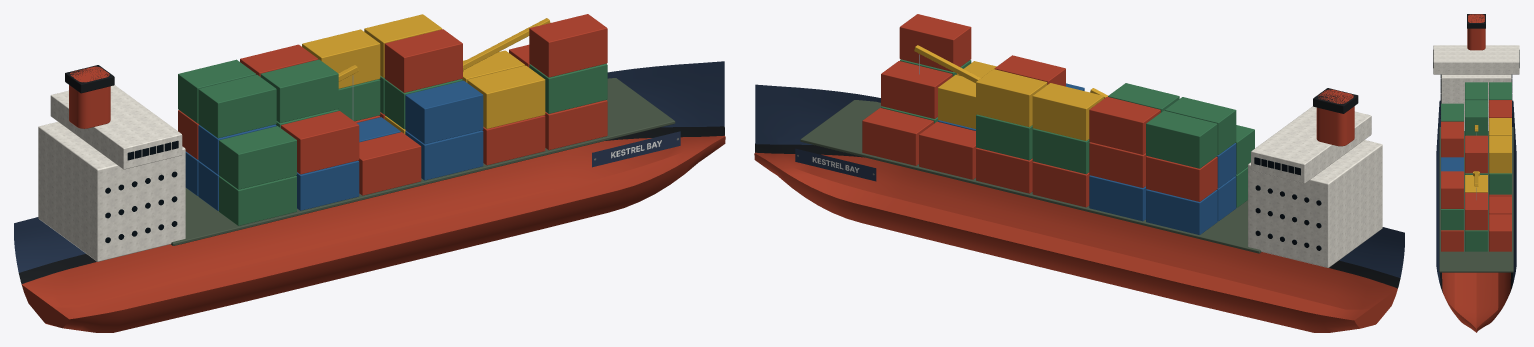
File: CargoFreighter.glb
The picture shows the model from 3 angles, left to right: view 1: azimuth 30°, elevation 25°; view 2: azimuth 150°, elevation 25°; view 3: azimuth 270°, elevation 25°; orthographic projection. The views are drawn at different scales.
Visible parts, largest first — view 1: CargoFreighter_Body, CargoFreighter; view 2: CargoFreighter_Body, CargoFreighter; view 3: CargoFreighter_Body, CargoFreighter.
Part boxes in pixels (x1,y1,x2,y2): CargoFreighter_Body: [14, 14, 725, 332]; CargoFreighter: [338, 18, 550, 120]; CargoFreighter_Body: [754, 14, 1404, 332]; CargoFreighter: [914, 45, 1107, 98]; CargoFreighter_Body: [1433, 14, 1519, 332]; CargoFreighter: [1474, 125, 1478, 199].
Bounding box in the file's own units: 46 × 16.6 × 8.65.
Materials: 12 (2 with a texture image).
